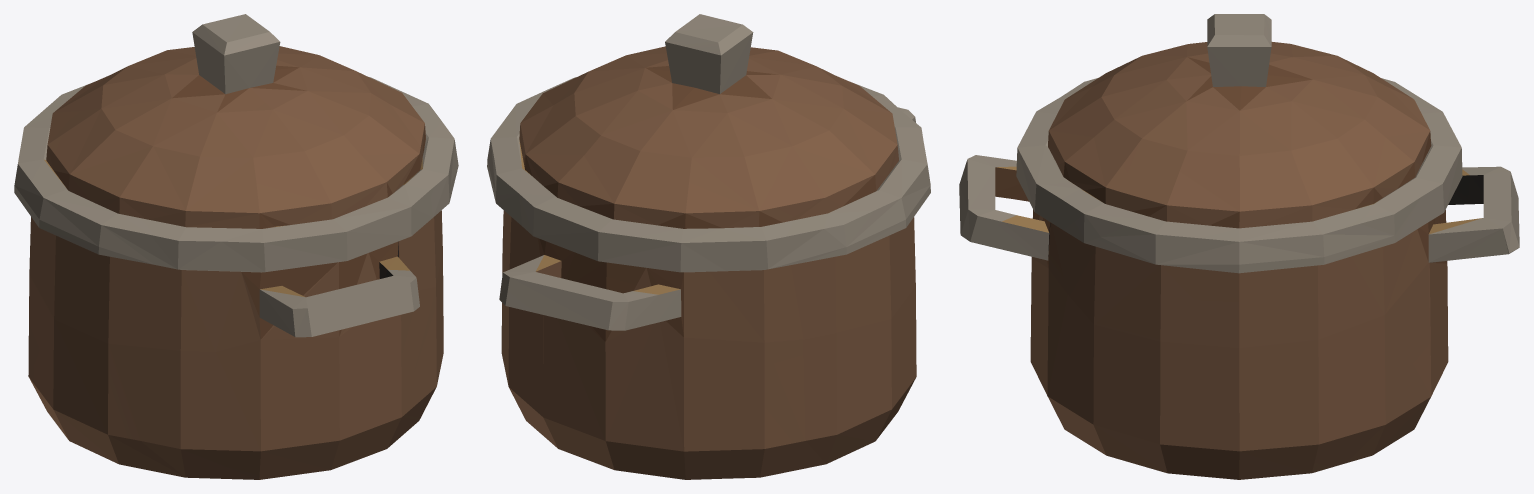
File: mdvl_interiors_pot_01.fbx
3 renders of one model, left to right at view 1: azimuth 30°, elevation 25°; view 2: azimuth 150°, elevation 25°; view 3: azimuth 270°, elevation 25°, orthographic.
Visible parts, largest first — view 1: mdvl_interiors_pot_01; view 2: mdvl_interiors_pot_01; view 3: mdvl_interiors_pot_01.
Boxes of the visible parts, left/top/right/bottom form: mdvl_interiors_pot_01: left=14, top=14, right=458, bottom=479; mdvl_interiors_pot_01: left=487, top=14, right=930, bottom=479; mdvl_interiors_pot_01: left=959, top=14, right=1519, bottom=479.
Size of the model in its own units: 0.2525 by 0.3097 by 0.2373.
